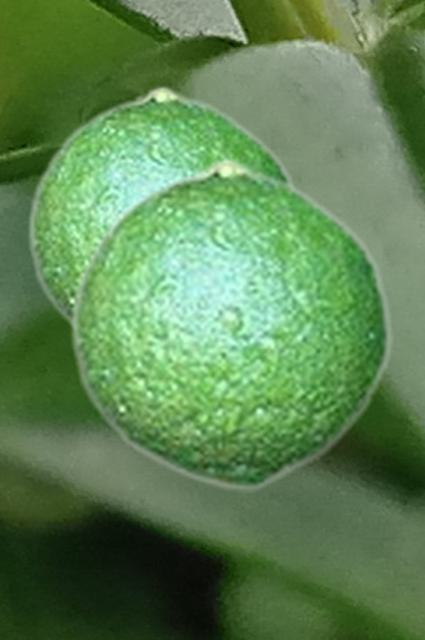dalandan: (67, 156, 392, 491), (25, 84, 299, 330)
